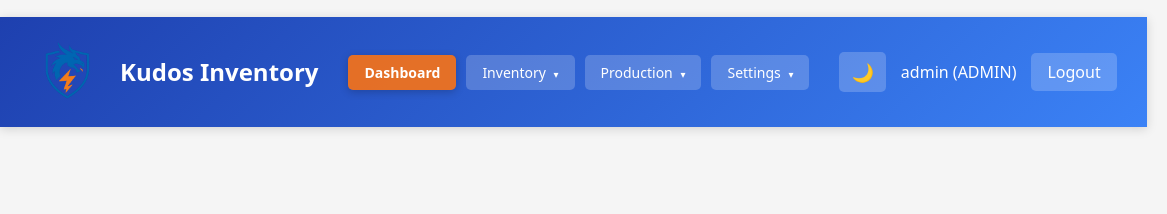
Test: Navbar › shows Audit Logs to admins
What coordinates should you click on to do the following:
click the button "Settings ▾"
I would click on:
 (760, 72)
Its box is [712,54,810,90].
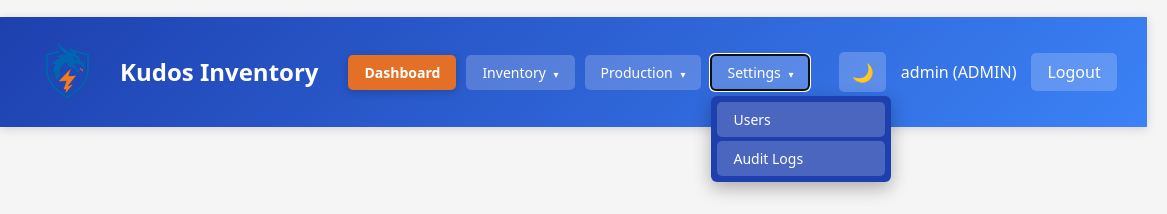
expect the menu item "Audit Logs" is shown: met, box [718,140,886,176]
